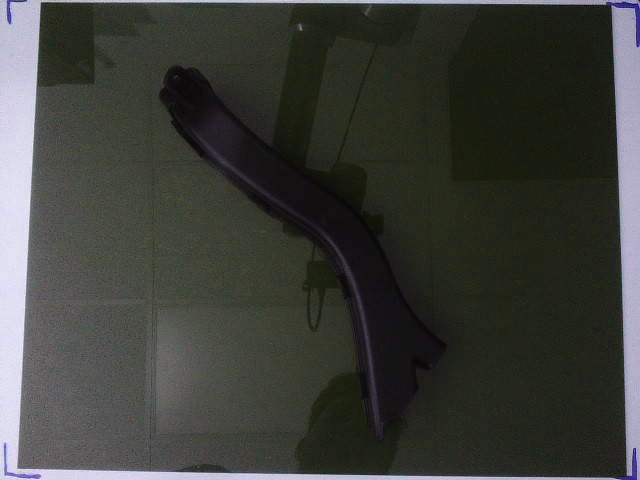887_B-Top: (159, 66, 447, 438)
